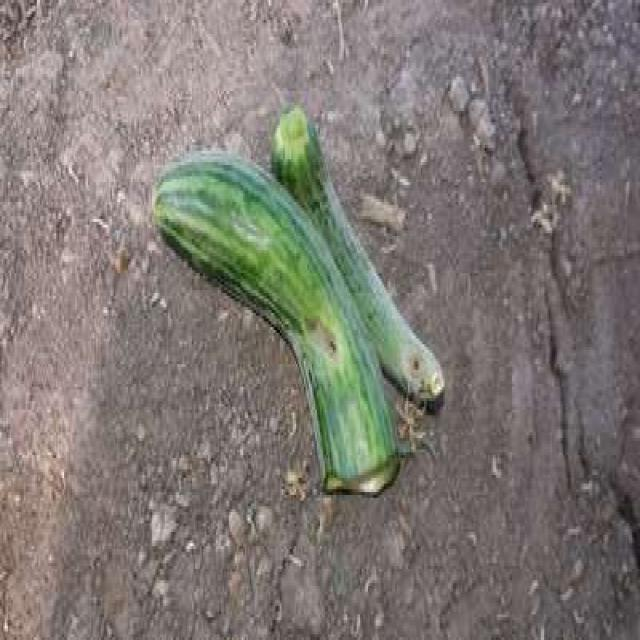Fruit fly: (292, 293, 360, 377), (231, 178, 285, 276), (390, 324, 436, 398)
